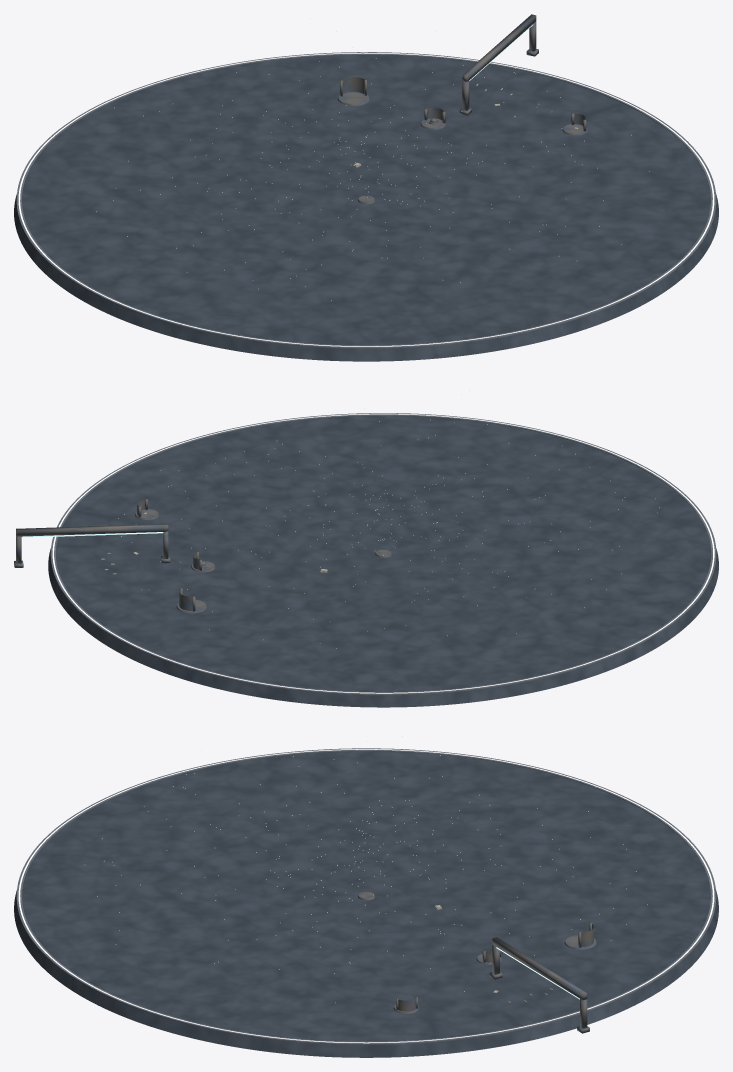
Rendered from quiet-archive.glb.
The picture shows the model from 3 angles, top to bottom: view 1: azimuth 30°, elevation 25°; view 2: azimuth 150°, elevation 25°; view 3: azimuth 270°, elevation 25°; orthographic projection. The views are drawn at different scales.
Visible parts, largest first — view 1: qa_field_terrain, qa_field_ring_band, qa_field_ring_inlay, lintel, sputnik_alcove; view 2: qa_field_terrain, qa_field_ring_band, qa_field_ring_inlay, lintel; view 3: qa_field_terrain, qa_field_ring_band, qa_field_ring_inlay, lintel.
Part boxes in pixels (bbox=[...]): qa_field_terrain: bbox=[14, 55, 718, 361]; qa_field_ring_band: bbox=[16, 52, 716, 348]; qa_field_ring_inlay: bbox=[18, 52, 714, 346]; lintel: bbox=[462, 14, 536, 81]; sputnik_alcove: bbox=[337, 77, 369, 105]; qa_field_terrain: bbox=[48, 415, 718, 707]; qa_field_ring_band: bbox=[50, 413, 716, 695]; qa_field_ring_inlay: bbox=[52, 413, 714, 693]; lintel: bbox=[16, 524, 168, 536]; qa_field_terrain: bbox=[14, 751, 718, 1057]; qa_field_ring_band: bbox=[16, 748, 716, 1044]; qa_field_ring_inlay: bbox=[18, 749, 714, 1043]; lintel: bbox=[492, 937, 587, 1000].
Bounding box in the file's own units: 528 × 63.28 × 528.
9 materials, 4 textured.
